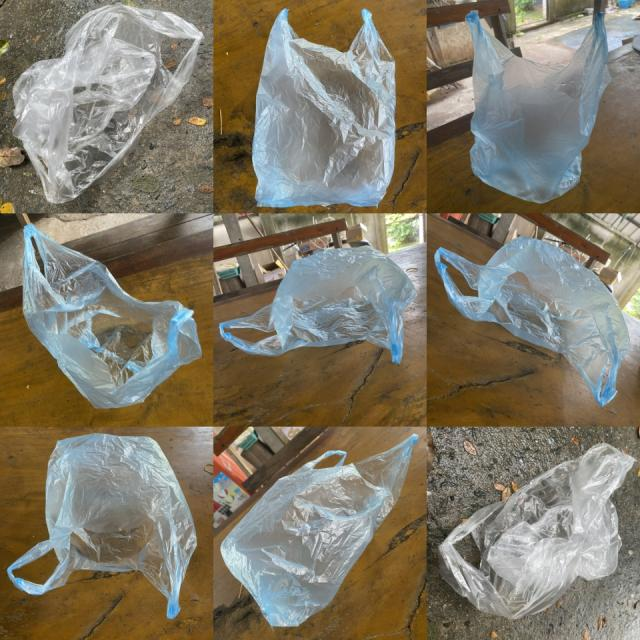Single-layer Plastic: (12, 5, 204, 204), (221, 435, 419, 626), (8, 434, 196, 618), (440, 444, 635, 619), (435, 236, 630, 406), (22, 224, 201, 409), (252, 9, 395, 207), (466, 11, 611, 203), (220, 246, 416, 363)
